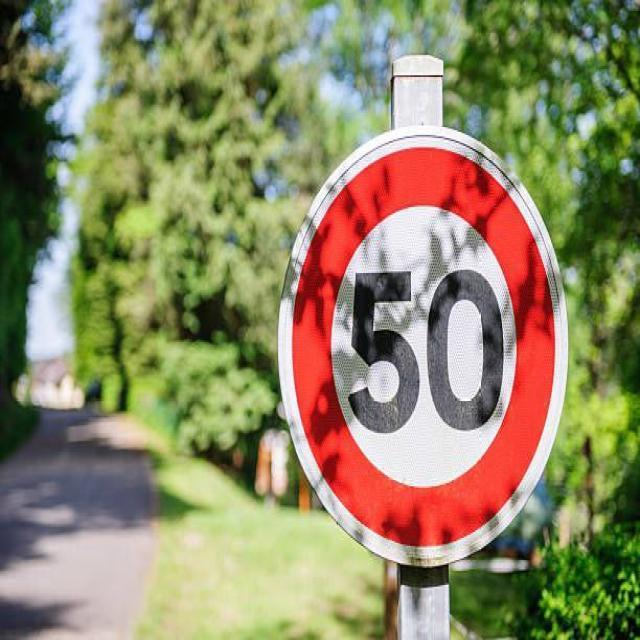speed limit 50: (272, 129, 564, 545)
